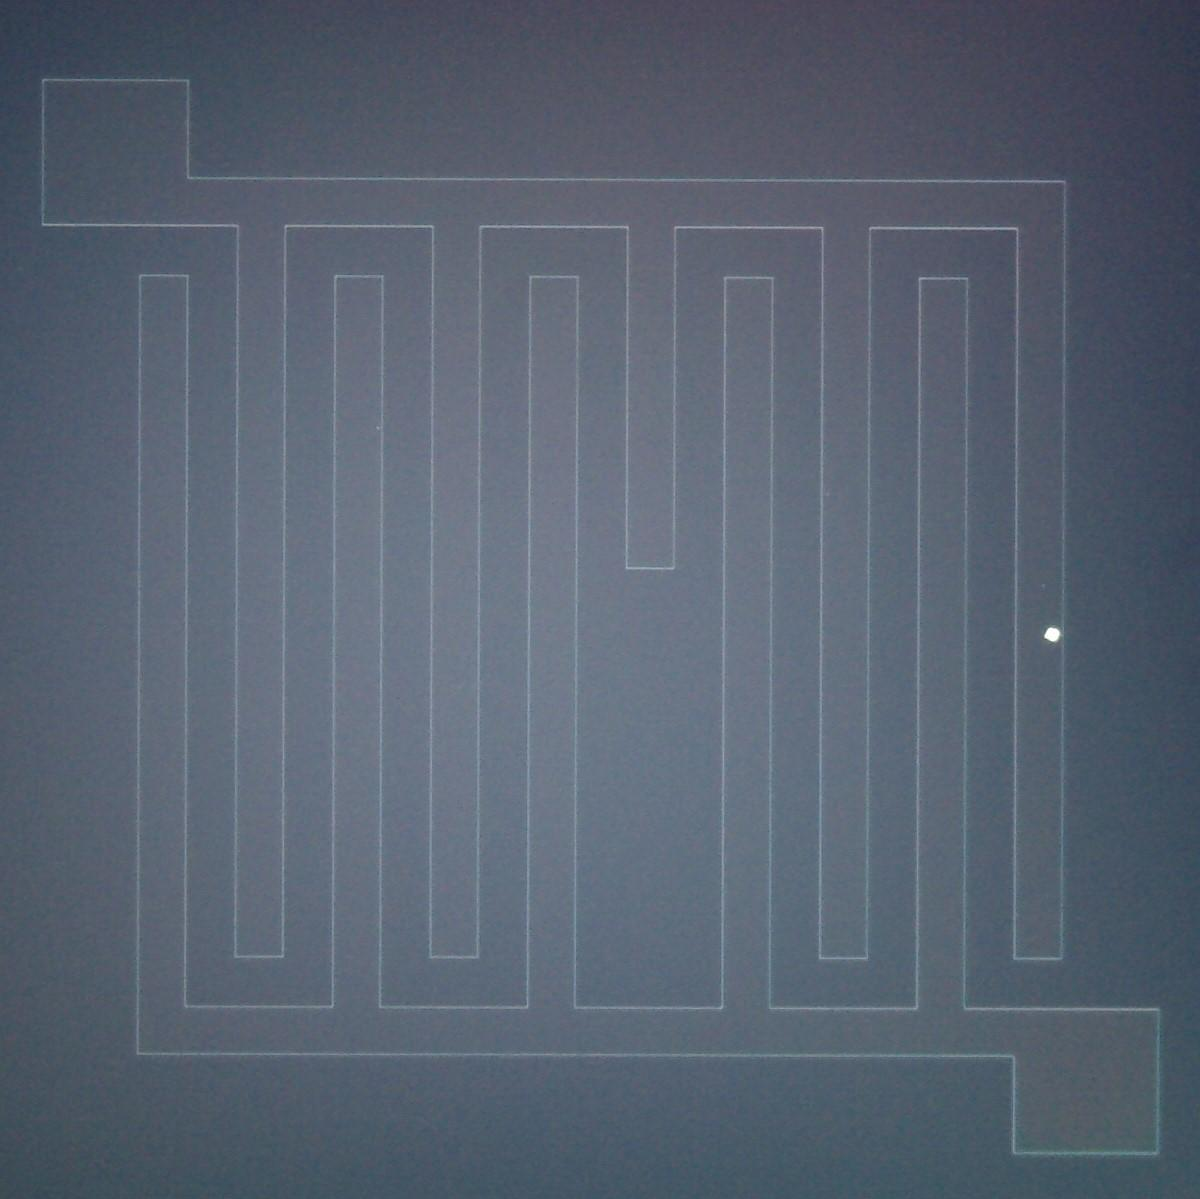B_point: (1039, 618, 1068, 652)
short: (559, 167, 739, 1027)
